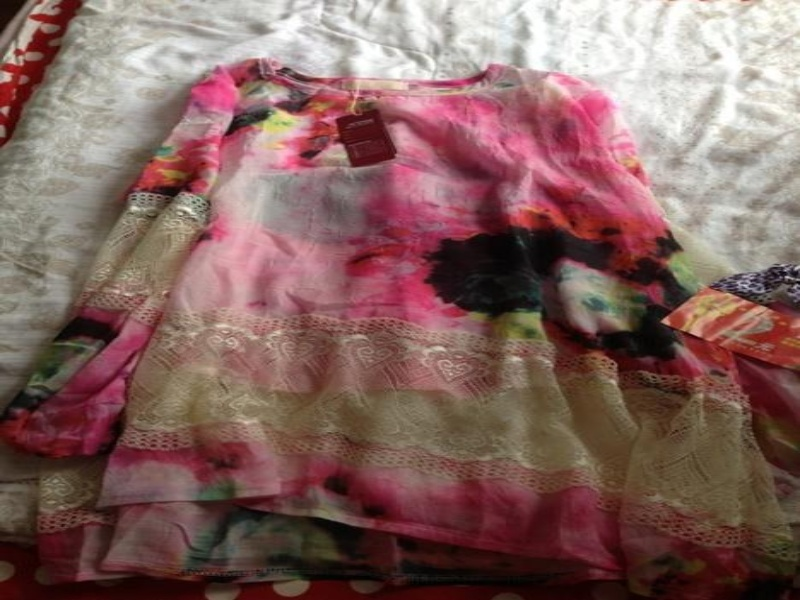long_sleeved_shirt: (0, 55, 795, 599)
